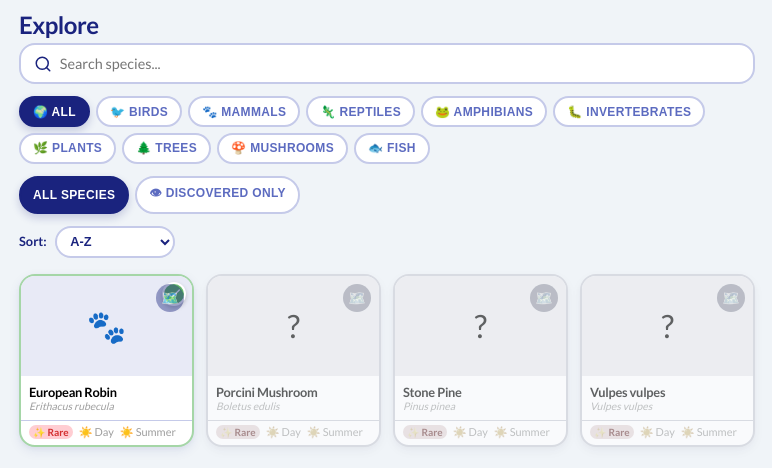
Scenario: ChecklistPage › filter by MUSHROOMS category works
The image size is (772, 468).
Note: Click on MUSHROOMS filter
Click the button "🍄 Mushrooms": coordinates (283, 148) 217,133 -> 348,164
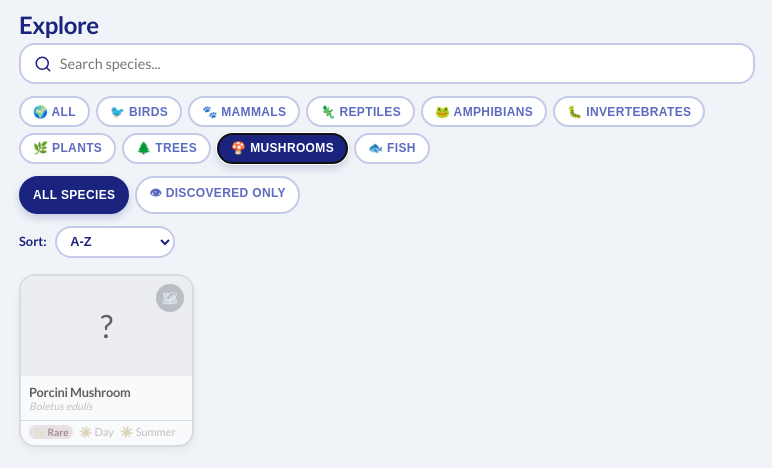
Expected: the heading "Porcini Mushroom" is shown, 29,384 -> 131,400
Expected: the button "European Robin" is gone
